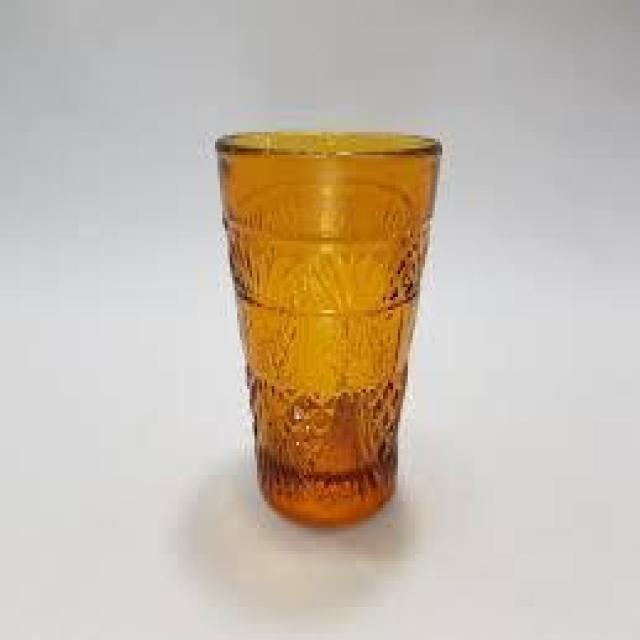Glass: (215, 134, 445, 526)
